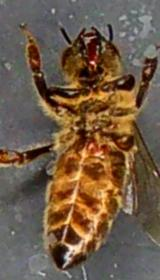varroa_mite: (85, 136, 110, 160)
